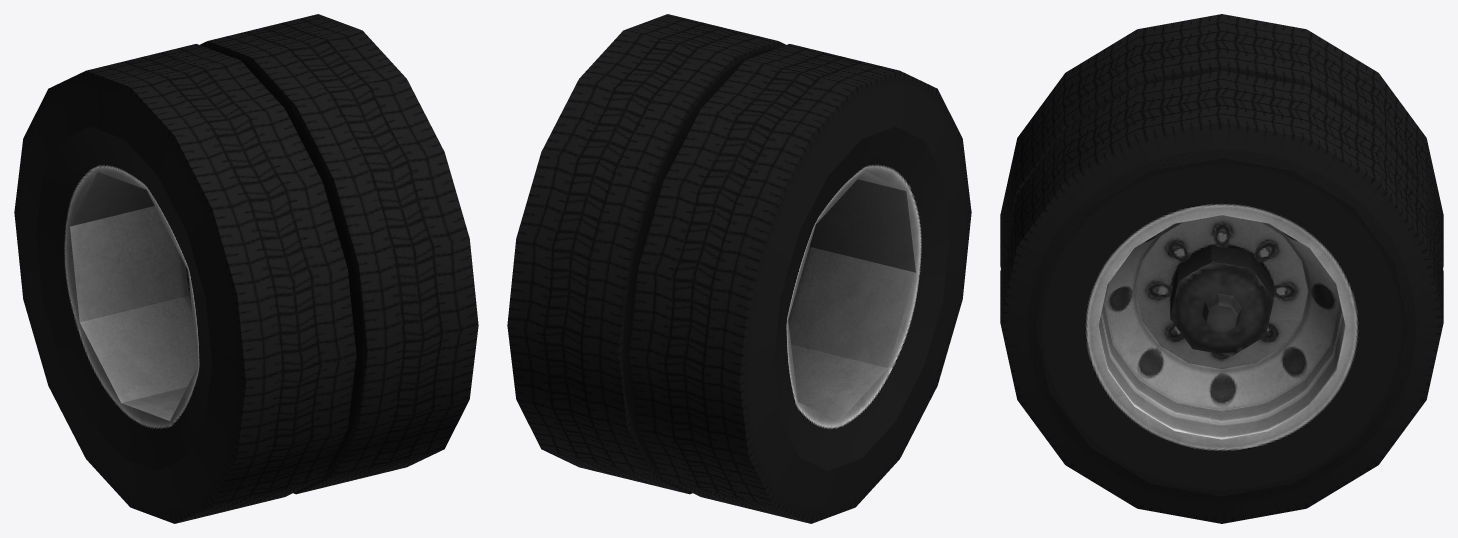
Rendered from Wheel BLFire Truck.fbx.
3 renders of one model, left to right at view 1: azimuth 30°, elevation 25°; view 2: azimuth 150°, elevation 25°; view 3: azimuth 270°, elevation 25°, orthographic. The views are drawn at different scales.
Parts seen in each view (by area): view 1: Wheel BLFire Truck; view 2: Wheel BLFire Truck; view 3: Wheel BLFire Truck.
Boxes of the visible parts, left/top/right/bottom form: Wheel BLFire Truck: left=14, top=14, right=478, bottom=523; Wheel BLFire Truck: left=507, top=14, right=971, bottom=523; Wheel BLFire Truck: left=1000, top=14, right=1443, bottom=523.
Size of the model in its own units: 52.79 by 85.59 by 85.59.
